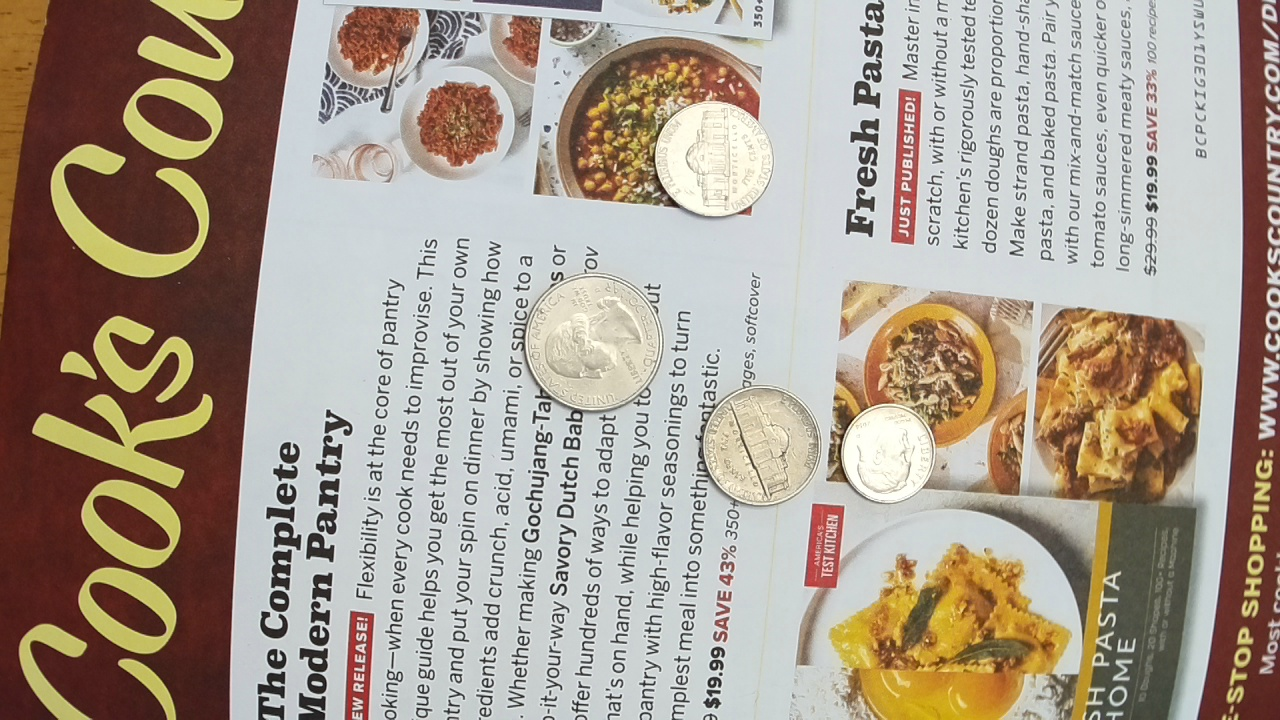dime: (836, 400, 938, 504)
nickel: (689, 376, 837, 514), (652, 98, 776, 220)
quarter: (518, 268, 660, 412)
